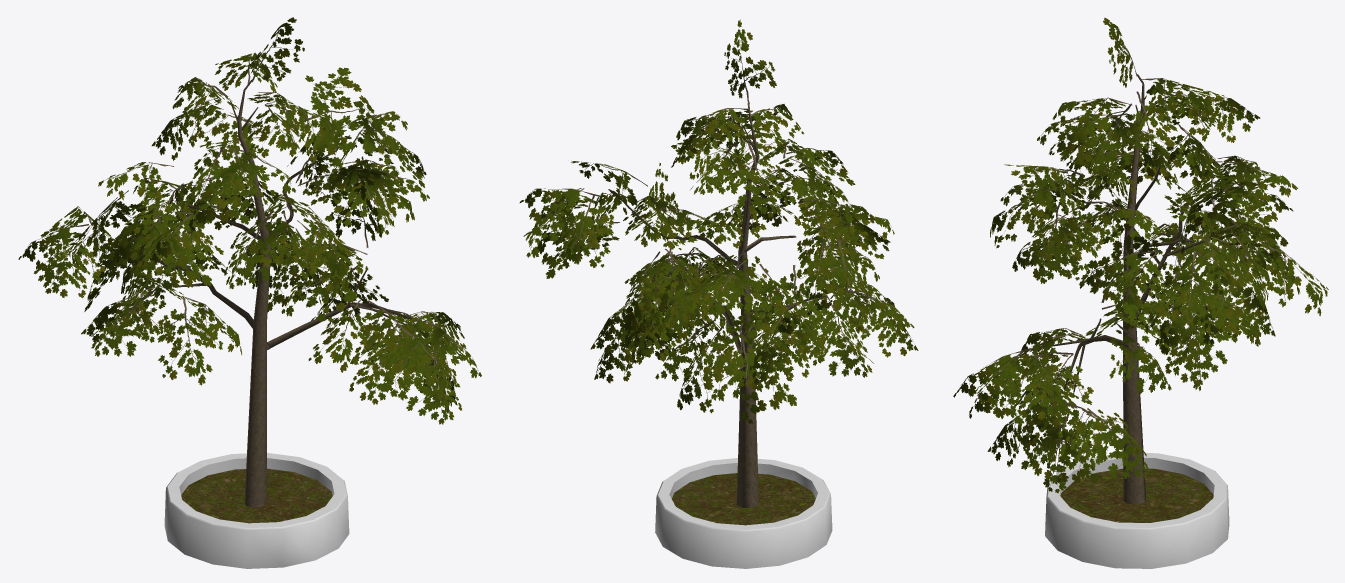
Rendered from nc_tree_12.fbx.
3 views of the same model, side by side, from view 1: azimuth 30°, elevation 25°; view 2: azimuth 150°, elevation 25°; view 3: azimuth 270°, elevation 25° (orthographic). The views are drawn at different scales.
Visible parts, largest first — view 1: nc_tree_12_LOD0; view 2: nc_tree_12_LOD0; view 3: nc_tree_12_LOD0.
Boxes of the visible parts, bbox=[...] form: nc_tree_12_LOD0: bbox=[18, 17, 481, 568]; nc_tree_12_LOD0: bbox=[519, 19, 918, 568]; nc_tree_12_LOD0: bbox=[953, 17, 1328, 568].
Size of what is drawn, in the model's own units: 2.45 by 3.11 by 2.05.
